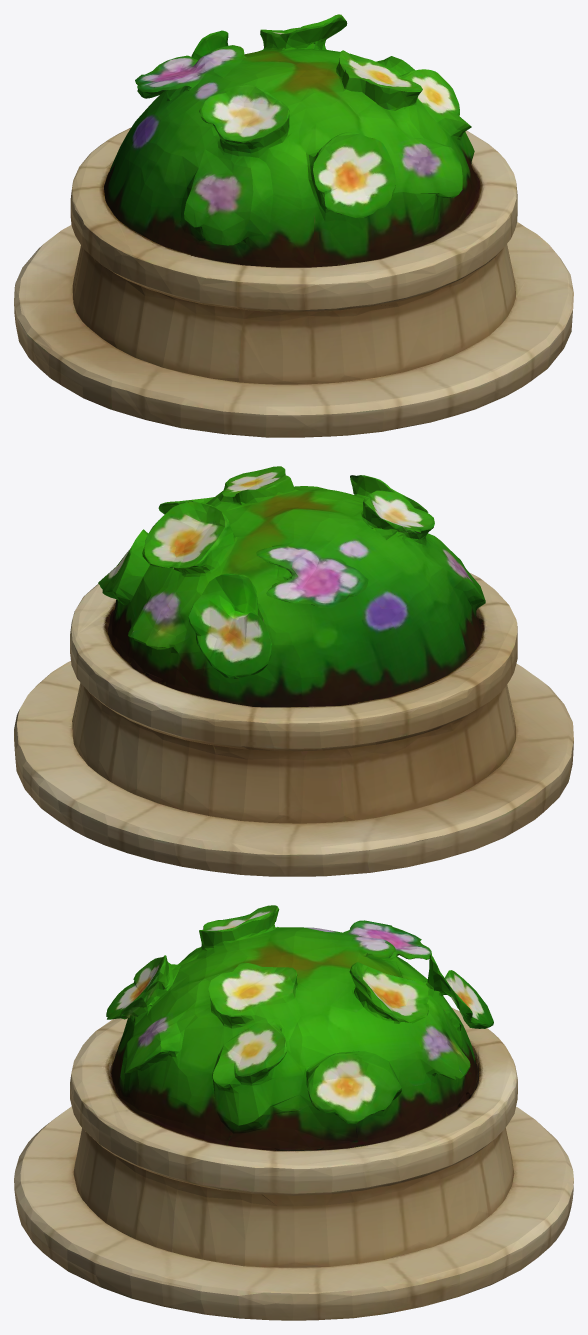
File: circle_flowers.glb
3 views of the same model, one above another, from view 1: azimuth 30°, elevation 25°; view 2: azimuth 150°, elevation 25°; view 3: azimuth 270°, elevation 25° (orthographic).
Visible parts, largest first — view 1: geometry_0; view 2: geometry_0; view 3: geometry_0.
Part boxes in pixels (left/top/right/bottom): geometry_0: left=14, top=14, right=573, bottom=437; geometry_0: left=14, top=466, right=573, bottom=876; geometry_0: left=14, top=905, right=573, bottom=1320.
Size of the model in its own units: 0.9998 by 0.5184 by 0.9967.
1 material, 1 textured.
